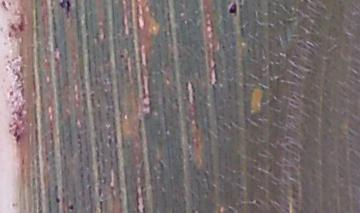tarspot: (60, 1, 72, 17), (228, 2, 238, 17), (54, 197, 62, 204), (118, 52, 126, 59), (67, 205, 75, 211)
